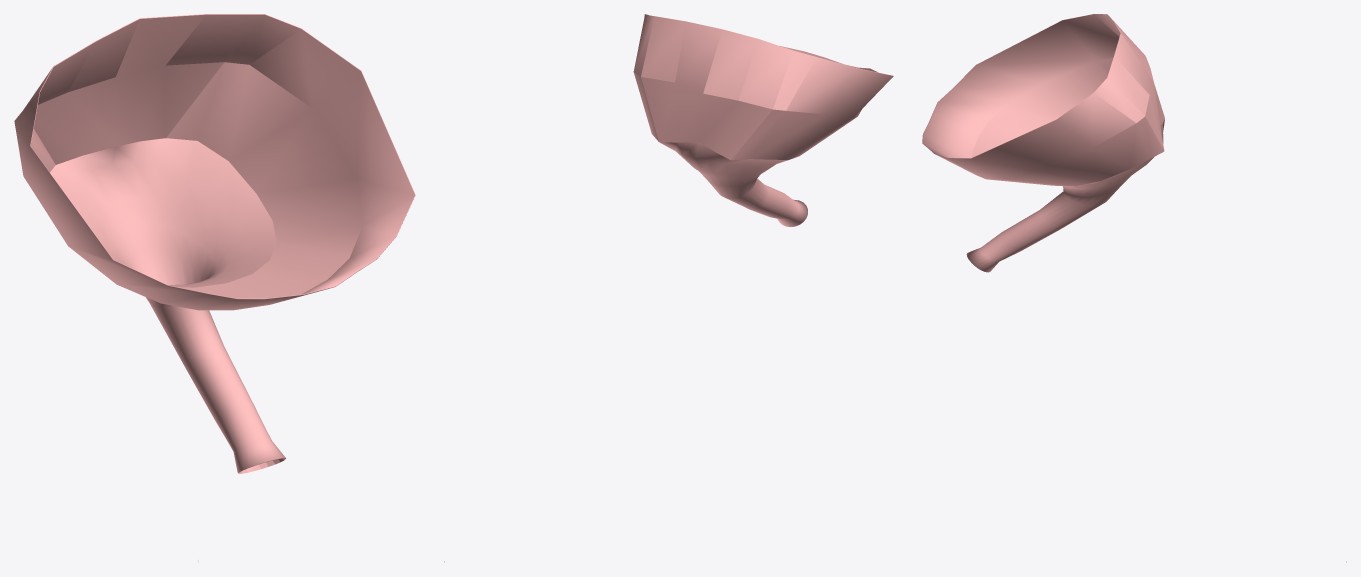
The model's file is uteromedio.fbx.
The picture shows the model from 3 angles, left to right: view 1: azimuth 30°, elevation 25°; view 2: azimuth 150°, elevation 25°; view 3: azimuth 270°, elevation 25°; orthographic projection. The views are drawn at different scales.
Visible parts, largest first — view 1: caso_1:vagina1_Mesh; view 2: caso_1:vagina1_Mesh; view 3: caso_1:vagina1_Mesh.
Part boxes in pixels (x1,y1,x2,y2): caso_1:vagina1_Mesh: [14, 14, 415, 473]; caso_1:vagina1_Mesh: [633, 14, 893, 226]; caso_1:vagina1_Mesh: [922, 14, 1164, 272].
Bounding box in the file's own units: 795 × 1408 × 1186.
